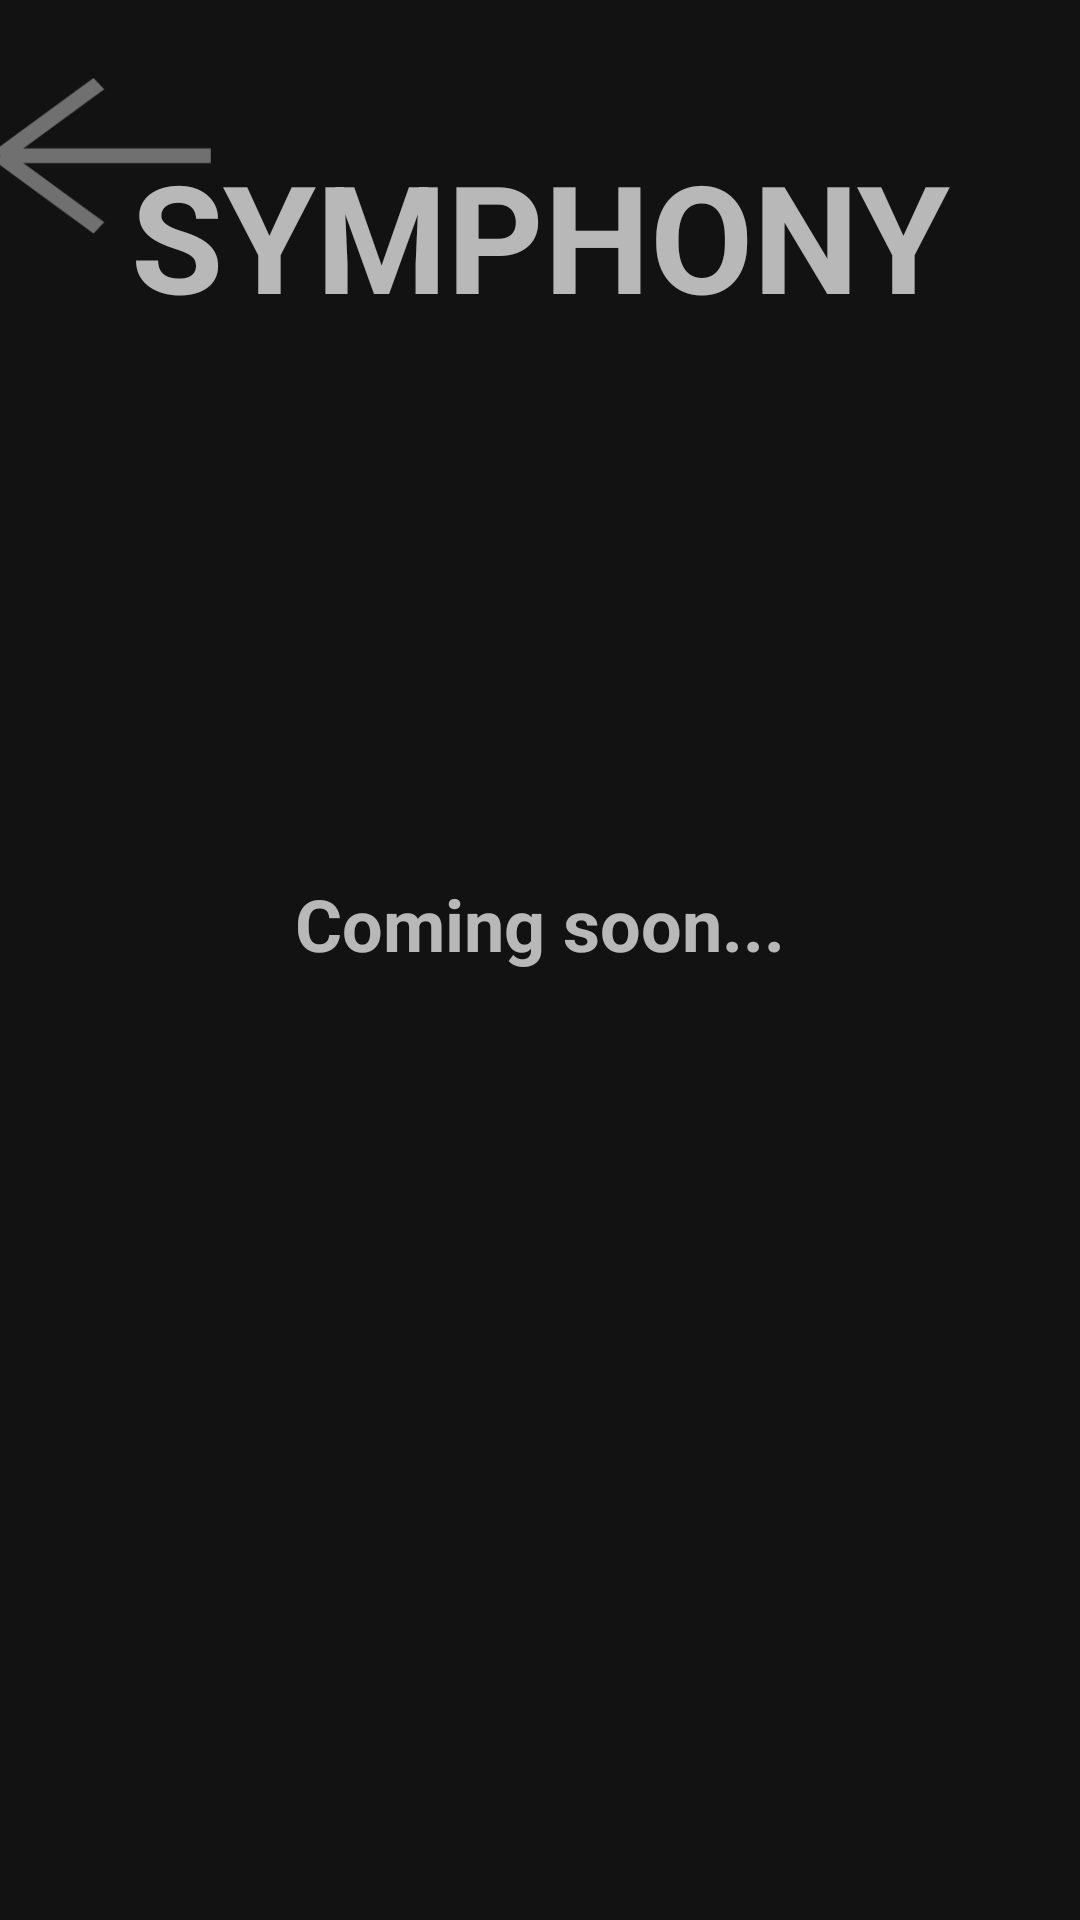

Named icons in this screenshot (1080 × 1920) and their centers, (x=x, y=y):
arrow: (x=105, y=155)
